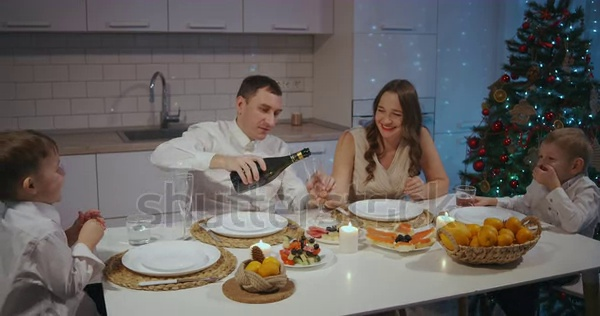No Mask: (1, 129, 85, 209), (232, 69, 283, 143), (366, 80, 421, 142), (538, 132, 591, 182)
